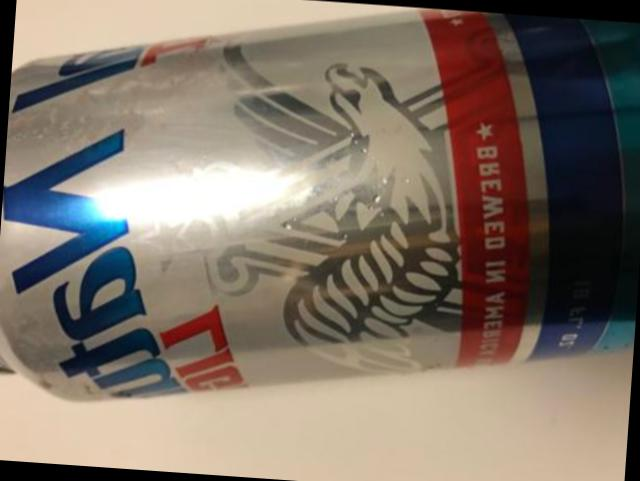metal: (0, 12, 640, 401)
